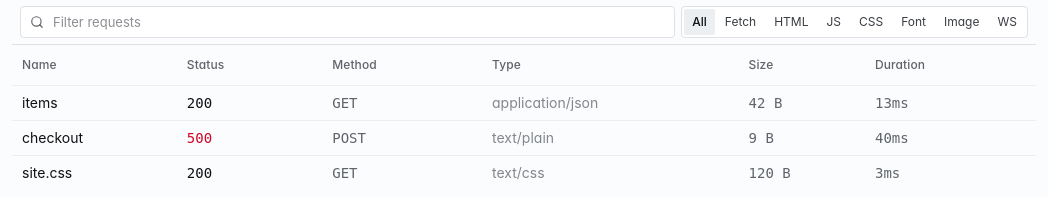
it: NetworkTab › filters rows by resource type via the type tabs, falling back to mime when _resourceType is absent
// Both fixture entries carry _resourceType fetch/xhr → the Fetch tab.
Click the button "Fetch" at (740, 22), box [717, 9, 764, 35]
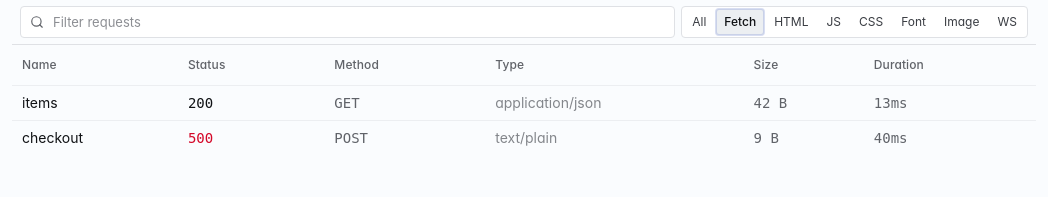
Expected: the button "items" is shown, [22, 96, 168, 110]
Result: the button "site.css" is gone
Click the button "CSS" at (871, 22), box [851, 9, 891, 35]
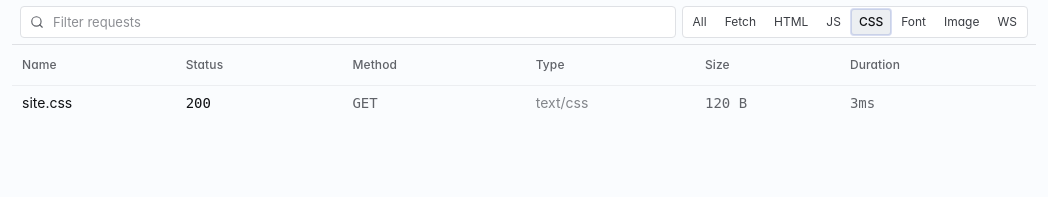
Result: the button "site.css" is shown at [22, 96, 166, 110]
Result: the button "items" is gone
// A type with no entries keeps the toolbar and shows the inline empty.
Click the button "Image" at (962, 22), box [936, 9, 987, 35]
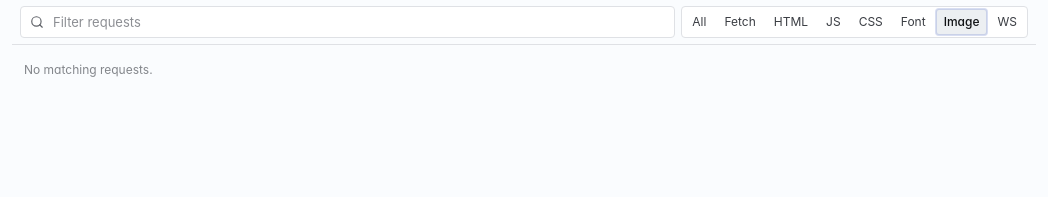
Result: the text "No matching requests." is shown at [24, 62, 153, 77]
Click the button "All" at (699, 22), box [684, 9, 714, 35]
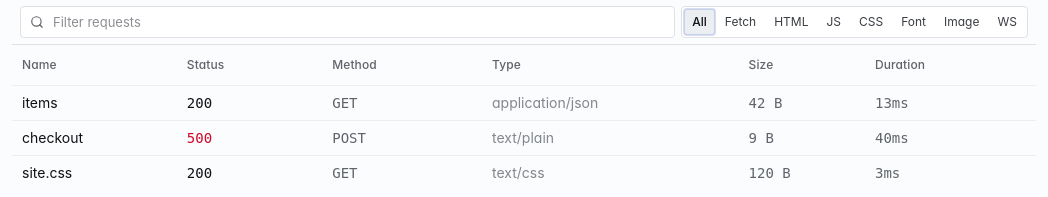
Result: the button "items" is shown at [22, 96, 167, 110]
Result: the button "site.css" is shown at [22, 166, 167, 180]
